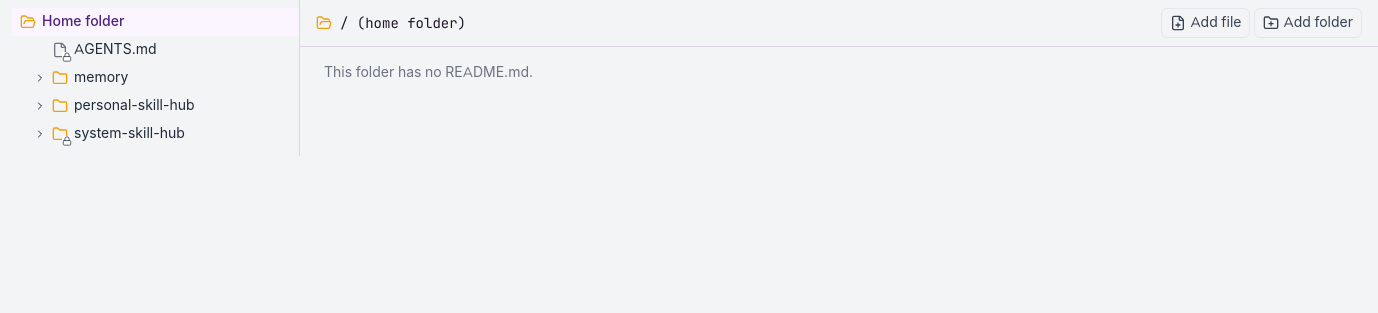
it: HomeFolderBrowser › creates a file and a folder, and the tree shows both without a reload
Click the button "memory": (101, 78) [12, 64, 299, 92]
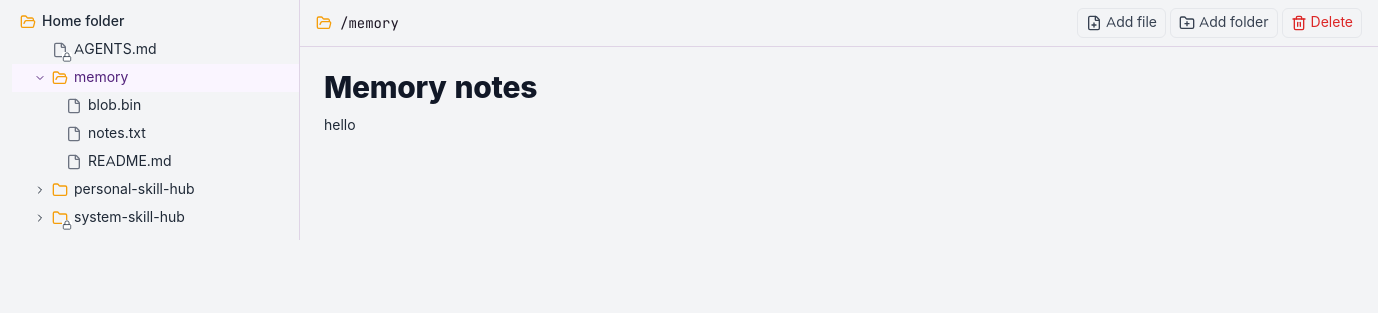
expect the heading "Memory notes" is shown: met, box [324, 68, 537, 109]
Click the button "Add file": (1121, 23) [1077, 8, 1166, 38]
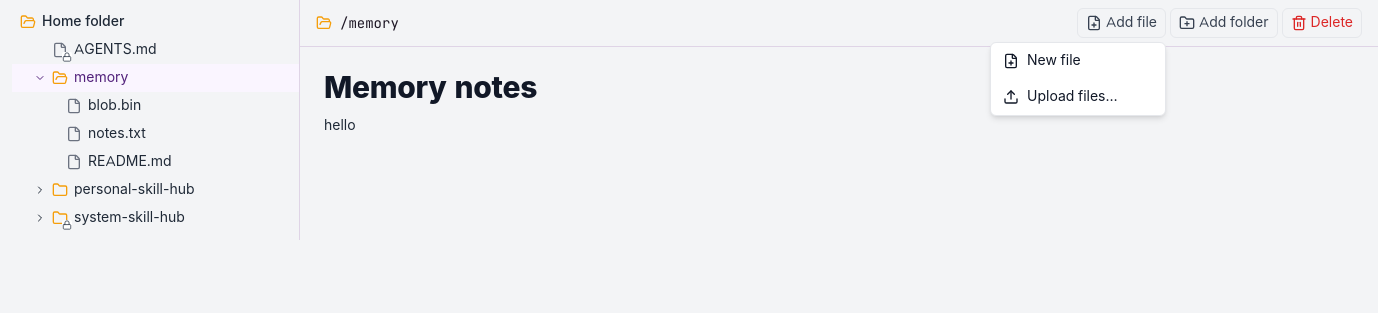
Click the menu item "New file": (1078, 61) [991, 43, 1165, 79]
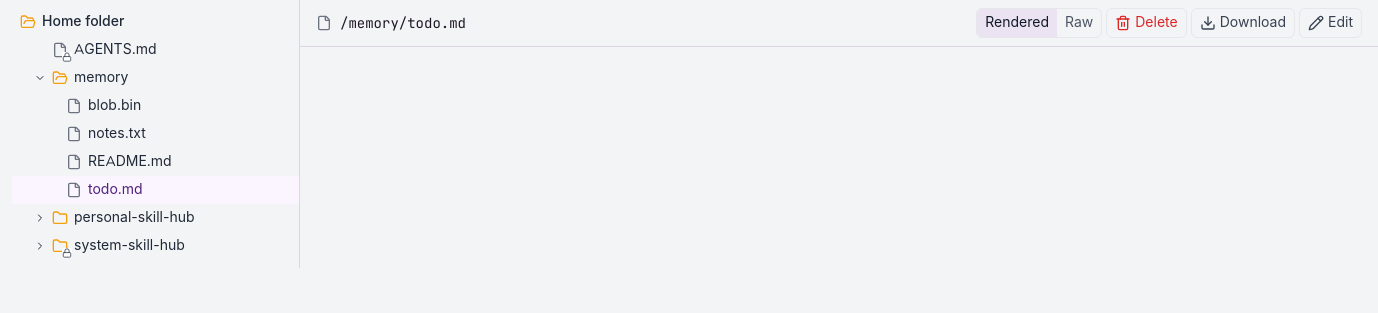
expect the text "todo.md" is shown: met, box [88, 180, 143, 200]
expect the heading reads "/memory/todo.md": met, box [340, 14, 466, 32]
Click the button "memory": (101, 78) [12, 64, 299, 92]
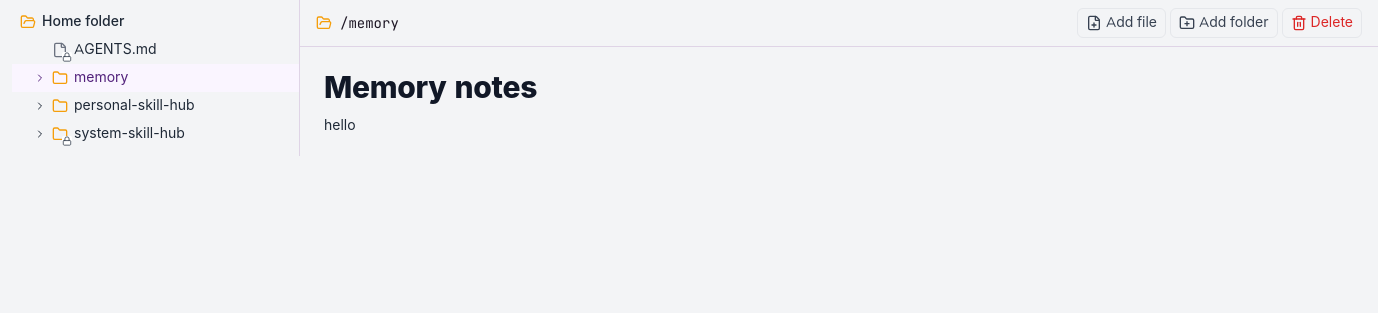
Click the button "memory": (101, 78) [12, 64, 299, 92]
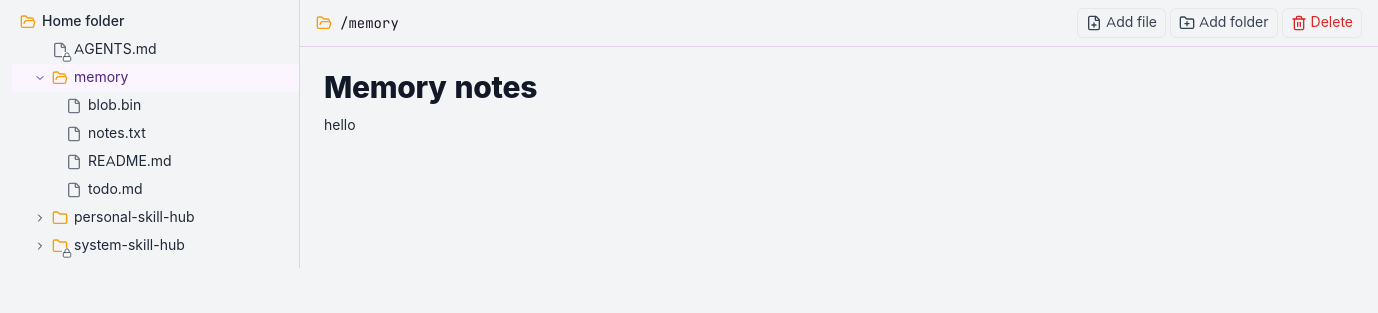
expect the heading "Memory notes" is shown: met, box [324, 68, 537, 109]
Click the button "Add folder": (1224, 23) [1170, 8, 1278, 38]
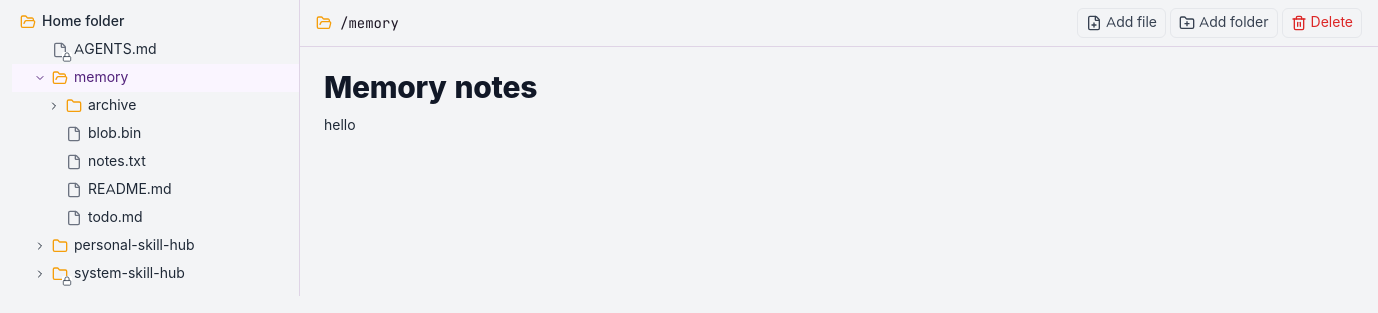
expect the text "archive" is shown: met, box [88, 96, 136, 116]
